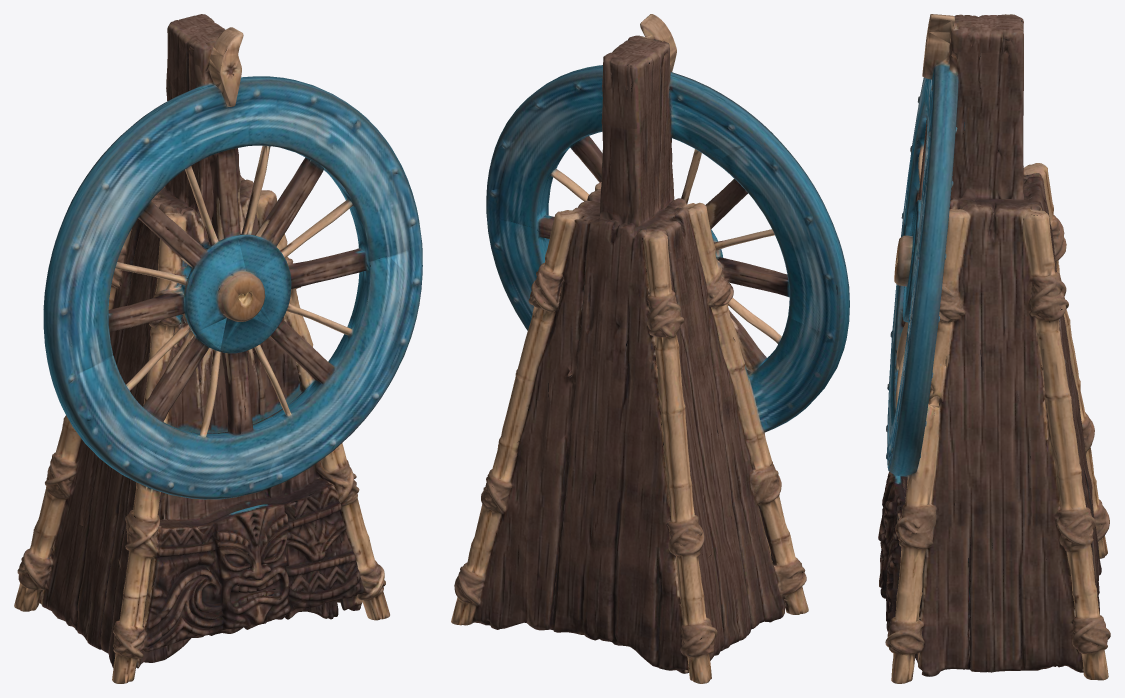
The model's file is wheel.glb.
3 views of the same model, side by side, from view 1: azimuth 30°, elevation 25°; view 2: azimuth 150°, elevation 25°; view 3: azimuth 270°, elevation 25° (orthographic). The views are drawn at different scales.
Parts seen in each view (by area): view 1: disc, frame; view 2: frame, disc; view 3: frame, disc.
Boxes of the visible parts, <box> form: disc: <box>43,28,422,515</box>; frame: <box>14,14,389,683</box>; frame: <box>451,16,808,683</box>; disc: <box>486,14,849,495</box>; frame: <box>878,14,1110,683</box>; disc: <box>886,14,1046,497</box>.
Size of the model in its own units: 1.24 by 1.9 by 0.6634.
Materials: 1 (1 with a texture image).
